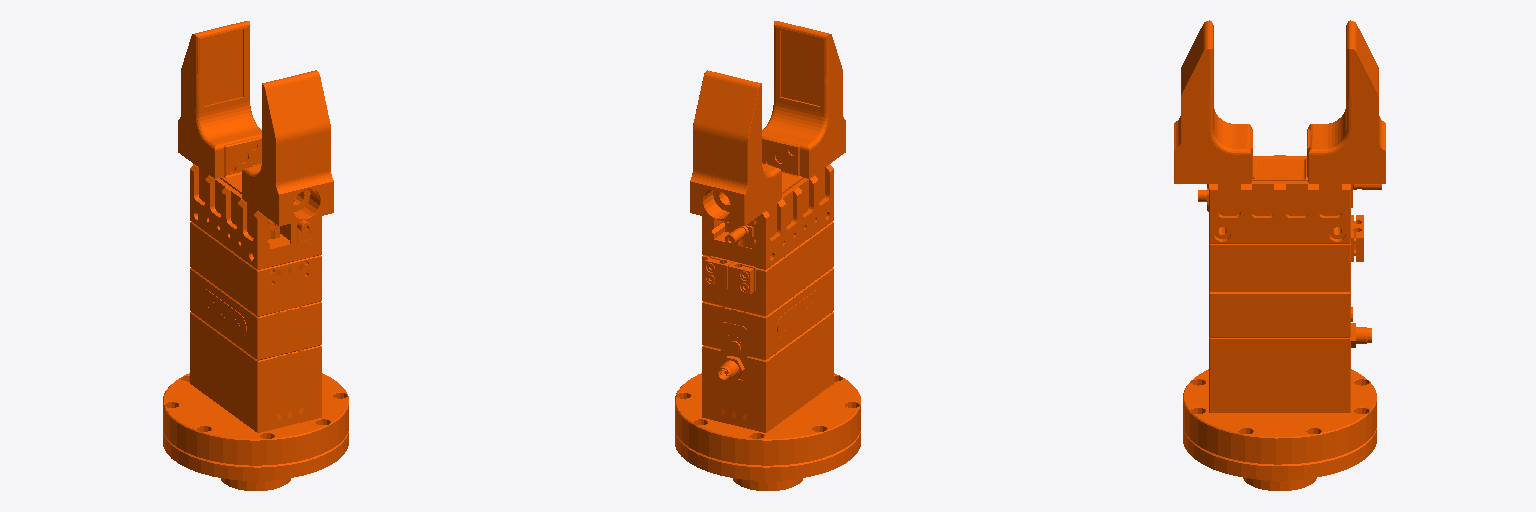
The robot description file, URDF, robot "downscale":
<!-- -*- mode: xml -*- -->

<robot name="downscale">
  <!-- Import Rviz colors -->
  <material name="Grey">
    <color rgba="0.2 0.2 0.2 1.0"/>
  </material>
  <material name="Orange">
    <color rgba="1.0 0.423529411765 0.0392156862745 1.0"/>
  </material>
  <material name="Blue">
    <color rgba="0.5 0.7 1.0 1.0"/> 
  </material>
  <material name="White">
    <color rgba="1.0 1.0 1.0 1.0"/>  
  </material>
  <material name="LightGrey">
    <color rgba="0.7 0.7 0.7 1.0"/>        
  </material>	

  <link
    name="base">
    <inertial>
      <origin
        xyz="2.2905721294153E-06 -1.61414290298367E-05 0.109058751369314"
        rpy="0 0 0" />
      <mass
        value="51.8879208121622" />
      <inertia
        ixx="0.107369583999488"
        ixy="3.45293516306737E-07"
        ixz="-1.7002845553287E-05"
        iyy="0.106711898425272"
        iyz="0.000112248488911704"
        izz="0.00463126223108742" />
    </inertial>
    <visual>
      <origin
        xyz="0 0 0"
        rpy="0 0 0" />
      <geometry>
        <mesh
          filename="package://meshes/base.STL" />
      </geometry>
      <material name="LightGrey"/>
    </visual>
    <collision>
      <origin
        xyz="0 0 0"
        rpy="0 0 0" />
      <geometry>
        <mesh
          filename="package://meshes/base.STL" />
      </geometry>
    </collision>
  </link>
  <link
    name="L1">
    <inertial>
      <origin
        xyz="-1.40503961643113E-06 0.0162520141256575 -0.0389516002710833"
        rpy="0 0 0" />
      <mass
        value="3.82018600703481" />
      <inertia
        ixx="0.0312186813390308"
        ixy="-8.25822321785251E-07"
        ixz="1.00573651071059E-06"
        iyy="0.0117066214028649"
        iyz="-0.00266196426941311"
        izz="0.0196261014510845" />
    </inertial>
    <visual>
      <origin
        xyz="0 0 0"
        rpy="0 0 0" />
      <geometry>
        <mesh
          filename="package://meshes/L1.STL" />
      </geometry>
      <material name="Orange"/>
    </visual>
    <collision>
      <origin
        xyz="0 0 0"
        rpy="0 0 0" />
      <geometry>
        <mesh
          filename="package://meshes/L1.STL" />
      </geometry>
    </collision>
  </link>
  <joint
    name="J1"
    type="revolute">
    <origin
      xyz="0 0 0.571000000000001"
      rpy="0 0 0" />
    <parent
      link="base" />
    <child
      link="L1" />
    <axis
      xyz="0 0 1" />
    <limit
      lower="-3.14159"
      upper="3.14159"
      effort="300"
      velocity="1" />
    <dynamics
      damping="0.5"
      friction="0.1" />
  </joint>
  <link
    name="L2">
    <inertial>
      <origin
        xyz="-6.78726905284366E-05 0.00193902497612969 0.206300822439238"
        rpy="0 0 0" />
      <mass
        value="2.90084024994969" />
      <inertia
        ixx="0.0577752595559213"
        ixy="-8.21630775582414E-08"
        ixz="3.80559781287884E-05"
        iyy="0.0451694272674874"
        iyz="0.0013266761278417"
        izz="0.0149066647182046" />
    </inertial>
    <visual>
      <origin
        xyz="0 0 0"
        rpy="0 0 0" />
      <geometry>
        <mesh
          filename="package://meshes/L2.STL" />
      </geometry>
      <material name="LightGrey"/>
    </visual>
    <collision>
      <origin
        xyz="0 0 0"
        rpy="0 0 0" />
      <geometry>
        <mesh
          filename="package://meshes/L2.STL" />
      </geometry>
    </collision>
  </link>
  <joint
    name="J2"
    type="revolute">
    <origin
      xyz="0 0 0"
      rpy="0 0 0" />
    <parent
      link="L1" />
    <child
      link="L2" />
    <axis
      xyz="0 -1 0" />
    <limit
      lower="-1.91986"
      upper="1.91986"
      effort="300"
      velocity="1" />
    <dynamics
      damping="0.5"
      friction="0.1" />
  </joint>
  <link
    name="L3">
    <inertial>
      <origin
        xyz="-5.6635250093362E-05 0.0200224096634917 -0.030685403640807"
        rpy="0 0 0" />
      <mass
        value="2.04242878532359" />
      <inertia
        ixx="0.0137939832039614"
        ixy="-8.30215189429191E-06"
        ixz="3.71834240965217E-06"
        iyy="0.00420302684340593"
        iyz="-0.00129387872307497"
        izz="0.00964293808737675" />
    </inertial>
    <visual>
      <origin
        xyz="0 0 0"
        rpy="0 0 0" />
      <geometry>
        <mesh
          filename="package://meshes/L3.STL" />
      </geometry>
      <material name="Orange"/>
    </visual>
    <collision>
      <origin
        xyz="0 0 0"
        rpy="0 0 0" />
      <geometry>
        <mesh
          filename="package://meshes/L3.STL" />
      </geometry>
    </collision>
  </link>
  <joint
    name="J3"
    type="revolute">
    <origin
      xyz="0 0 0.547"
      rpy="0 0 -7.35972077678528E-17" />
    <parent
      link="L2" />
    <child
      link="L3" />
    <axis
      xyz="0 0 1" />
    <limit
      lower="-3.14159"
      upper="3.14159"
      effort="300"
      velocity="1" />
    <dynamics
      damping="0.5"
      friction="0.1" />
  </joint>
  <link
    name="L4">
    <inertial>
      <origin
        xyz="6.16640638659849E-05 0.00191795288527713 0.189508428978352"
        rpy="0 0 0" />
      <mass
        value="1.77641972949222" />
      <inertia
        ixx="0.0258869277460313"
        ixy="1.30675841754291E-06"
        ixz="-2.8529879165025E-06"
        iyy="0.0200868822533137"
        iyz="0.00084127373482839"
        izz="0.00668727677083832" />
    </inertial>
    <visual>
      <origin
        xyz="0 0 0"
        rpy="0 0 0" />
      <geometry>
        <mesh
          filename="package://meshes/L4.STL" />
      </geometry>
      <material name="LightGrey"/>
    </visual>
    <collision>
      <origin
        xyz="0 0 0"
        rpy="0 0 0" />
      <geometry>
        <mesh
          filename="package://meshes/L4.STL" />
      </geometry>
    </collision>
  </link>
  <joint
    name="J4"
    type="revolute">
    <origin
      xyz="0 0 0"
      rpy="0 0 0" />
    <parent
      link="L3" />
    <child
      link="L4" />
    <axis
      xyz="0 -1 0" />
    <limit
      lower="-2.61799"
      upper="2.61799"
      effort="300"
      velocity="1" />
    <dynamics
      damping="0.5"
      friction="0.1" />
  </joint>
  <link
    name="L5">
    <inertial>
      <origin
        xyz="-0.000102265913206057 0.0035794784269399 -0.024596073255345"
        rpy="0 0 0" />
      <mass
        value="1.16222465310862" />
      <inertia
        ixx="0.00473693858341341"
        ixy="-5.40342574980917E-06"
        ixz="2.57585847244667E-06"
        iyy="0.00147340832139742"
        iyz="-0.000122624552624032"
        izz="0.00327727690561438" />
    </inertial>
    <visual>
      <origin
        xyz="0 0 0"
        rpy="0 0 0" />
      <geometry>
        <mesh
          filename="package://meshes/L5.STL" />
      </geometry>
      <material name="Orange"/>
    </visual>
    <collision>
      <origin
        xyz="0 0 0"
        rpy="0 0 0" />
      <geometry>
        <mesh
          filename="package://meshes/L5.STL" />
      </geometry>
    </collision>
  </link>
  <joint
    name="J5"
    type="revolute">
    <origin
      xyz="0 0 0.483999999999999"
      rpy="0 0 -1.08089488645768E-16" />
    <parent
      link="L4" />
    <child
      link="L5" />
    <axis
      xyz="0 0 1" />
    <limit
      lower="-3.14159"
      upper="3.14159"
      effort="300"
      velocity="1" />
    <dynamics
      damping="0.1"
      friction="0.1" />
  </joint>
  <link
    name="L6">
    <inertial>
      <origin
        xyz="5.86989553775785E-05 0.00199818879522046 0.140833738111627"
        rpy="0 0 0" />
      <mass
        value="1.11995233933703" />
      <inertia
        ixx="0.00736730167051378"
        ixy="6.51011014885253E-07"
        ixz="-1.24797146947973E-06"
        iyy="0.00540698480228368"
        iyz="0.000419112532779327"
        izz="0.00250484335129939" />
    </inertial>
    <visual>
      <origin
        xyz="0 0 0"
        rpy="0 0 0" />
      <geometry>
        <mesh
          filename="package://meshes/L6.STL" />
      </geometry>
      <material name="LightGrey"/>
    </visual>
    <collision>
      <origin
        xyz="0 0 0"
        rpy="0 0 0" />
      <geometry>
        <mesh
          filename="package://meshes/L6.STL" />
      </geometry>
    </collision>
  </link>
  <joint
    name="J6"
    type="revolute">
    <origin
      xyz="0 0 0"
      rpy="0 0 0" />
    <parent
      link="L5" />
    <child
      link="L6" />
    <axis
      xyz="0 -1 0" />
    <limit
      lower="-1.91986"
      upper="1.91986"
      effort="300"
      velocity="1" />
    <dynamics
      damping="0.5"
      friction="0.1" />
  </joint>
  <link
    name="L7">
    <inertial>
      <origin
        xyz="-1.2189E-07 0.071391 8.1834E-09"
        rpy="0 0 0" />
      <mass
        value="0.55554" />
      <inertia
        ixx="0.00024889"
        ixy="3.6031E-11"
        ixz="4.7086E-10"
        iyy="0.00036473"
        iyz="-6.1886E-11"
        izz="0.00024245" />
    </inertial>
    <visual>
      <origin
        xyz="0 0 0"
        rpy="0 0 0" />
      <geometry>
        <mesh
          filename="package://meshes/L7_v1.STL" />
      </geometry>
      <material name="Orange"/>
    </visual>
    <collision>
      <origin
        xyz="0 0 0"
        rpy="0 0 0" />
      <geometry>
        <mesh
          filename="package://meshes/L7_v1.STL" />
      </geometry>
    </collision>
  </link>
  <joint
    name="J7"
    type="revolute">
    <origin
      xyz="0 0 0.247"
      rpy="1.5708 0 -1.5708" />
    <parent
      link="L6" />
    <child
      link="L7" />
    <axis
      xyz="0 1 0" />
    <limit
      lower="-3.14159"
      upper="3.14159"
      effort="300"
      velocity="1" />
    <dynamics
      damping="0.5"
      friction="0.1" />
  </joint>
</robot>

--- Facts derived from the render (not from the file) ---
3 views of the same robot in one strip: view 1: azimuth 30°, elevation 25°; view 2: azimuth 150°, elevation 25°; view 3: azimuth 270°, elevation 25° (orthographic).
Model downscale with 8 links and 7 joints (7 revolute), rooted at base, posed every joint at zero.
Links seen in each view (by area): view 1: L7; view 2: L7; view 3: L7.
Boxes of the visible links, x1,y1,x2,y2 form: L7: (163,21,348,490); L7: (675,21,860,490); L7: (1174,20,1385,490).
Bounding box of the posed robot: 0.0879 × 0.0958 × 0.2201 m (x, y, z).
1 mesh visuals loaded from 8 distinct referenced files (1 binary STL); not drawn: 7 (reference not matched to a file when rendering).